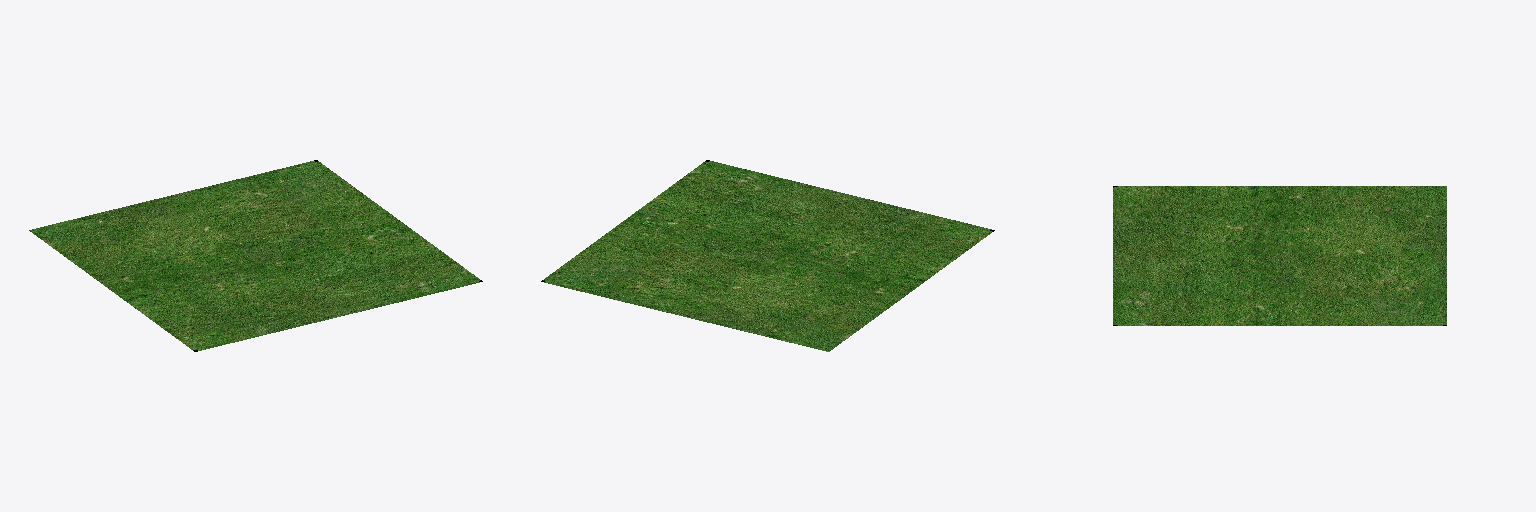
The picture shows the model from 3 angles: view 1: azimuth 30°, elevation 25°; view 2: azimuth 150°, elevation 25°; view 3: azimuth 270°, elevation 25°; orthographic projection.
Visible parts, largest first — view 1: pPlane1; view 2: pPlane1; view 3: pPlane1.
Part boxes in pixels (left/top/right/bottom): pPlane1: left=29, top=160, right=482, bottom=351; pPlane1: left=541, top=160, right=994, bottom=351; pPlane1: left=1113, top=186, right=1446, bottom=325.
Size of the model in its own units: 5000 by 0 by 5000.
Materials: 1 (1 with a texture image).